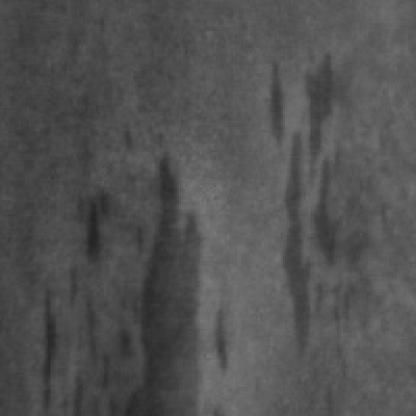inclusion: (266, 46, 374, 352), (131, 142, 241, 410), (40, 254, 138, 408), (79, 177, 123, 271)
